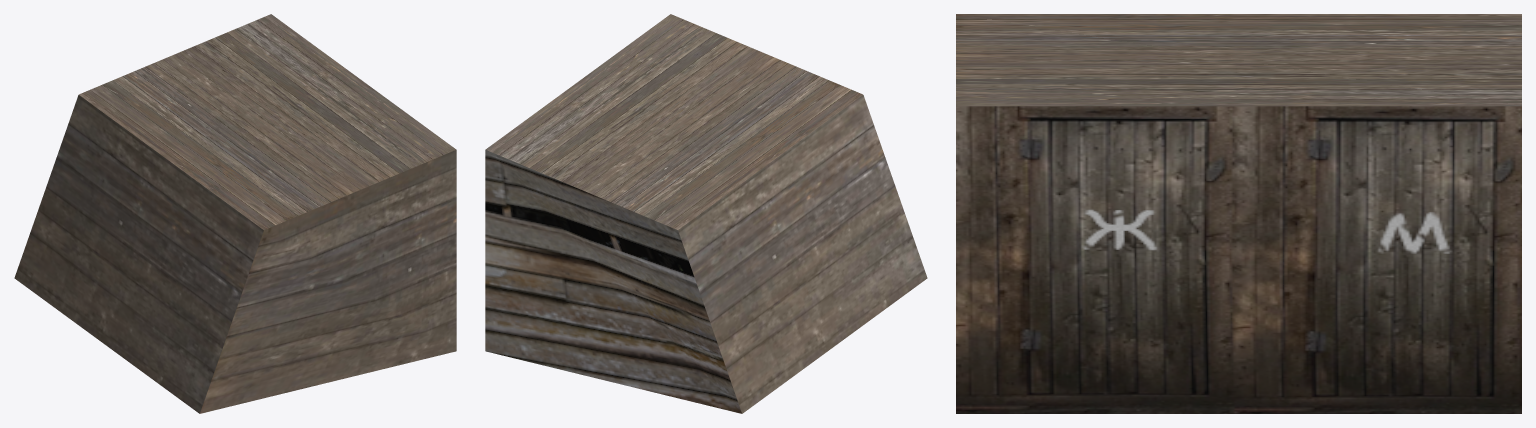
File: toilet.fbx
3 renders of one model, left to right at view 1: azimuth 30°, elevation 25°; view 2: azimuth 150°, elevation 25°; view 3: azimuth 270°, elevation 25°, orthographic. The views are drawn at different scales.
Visible parts, largest first — view 1: toilet; view 2: toilet; view 3: toilet.
Part boxes in pixels (bbox=[...]): toilet: bbox=[14, 14, 456, 413]; toilet: bbox=[485, 14, 927, 413]; toilet: bbox=[956, 14, 1521, 413].
Size of the model in its own units: 800 by 600 by 1000.
1 material, 1 textured.
